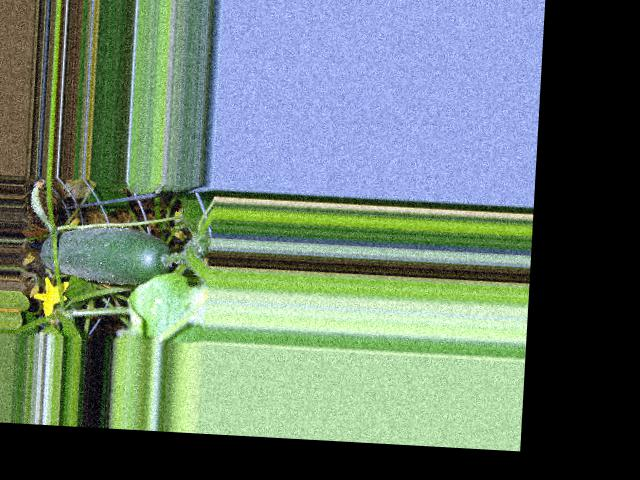cucumber: (40, 222, 172, 286)
